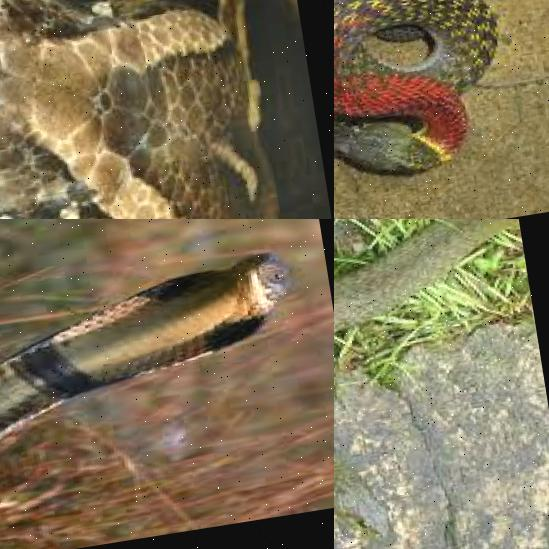2: (334, 219, 549, 549), (334, 0, 549, 201)
5: (0, 222, 326, 517)
snake: (0, 0, 334, 219)
